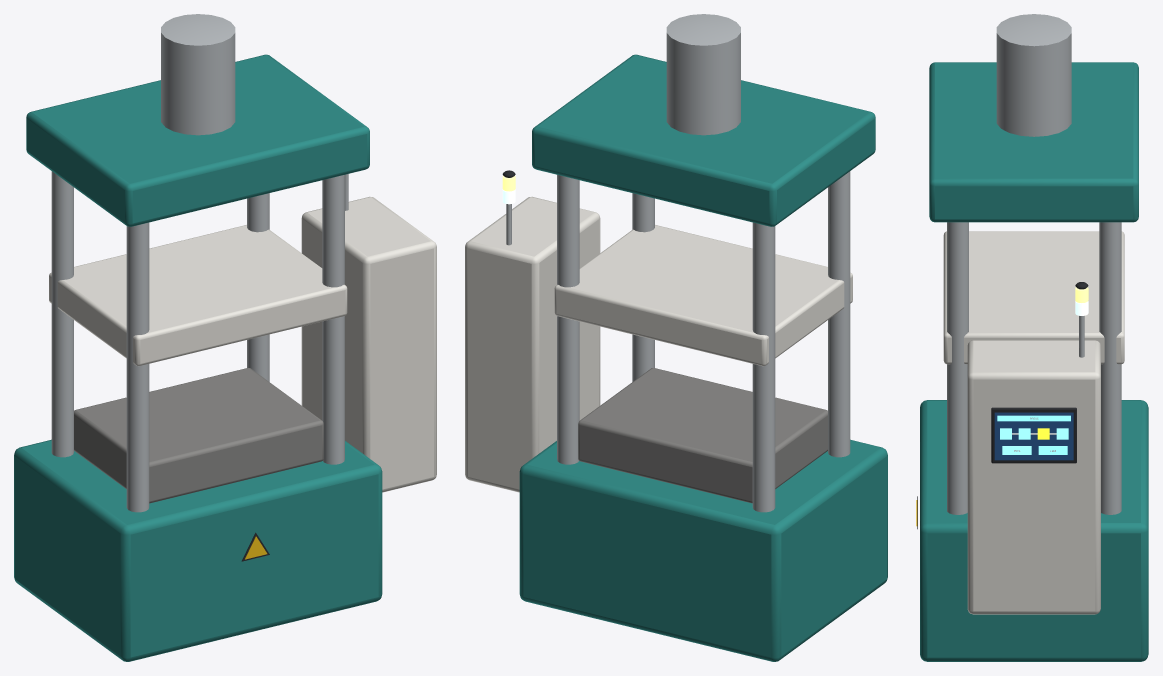
The model's file is mould_press.fbx.
3 renders of one model, left to right at view 1: azimuth 30°, elevation 25°; view 2: azimuth 150°, elevation 25°; view 3: azimuth 270°, elevation 25°, orthographic.
Visible parts, largest first — view 1: mould_press; view 2: mould_press; view 3: mould_press.
Part boxes in pixels (left/top/right/bottom): mould_press: left=14, top=14, right=436, bottom=661; mould_press: left=465, top=14, right=887, bottom=661; mould_press: left=916, top=14, right=1148, bottom=661.
Bounding box in the file's own units: 2.1 × 3.32 × 1.22.
